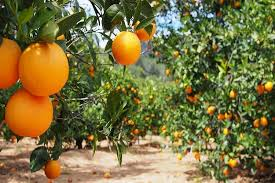orange: (20, 41, 70, 96), (7, 88, 53, 138), (113, 33, 141, 66), (47, 159, 63, 178)
